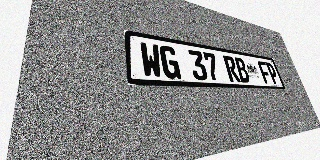3: (188, 50, 208, 81)
7: (202, 52, 222, 81)
B: (233, 57, 251, 83)
F: (257, 61, 273, 84)
G: (159, 45, 181, 79)
P: (265, 62, 280, 84)
R: (222, 55, 241, 82)
W: (139, 42, 163, 78)
